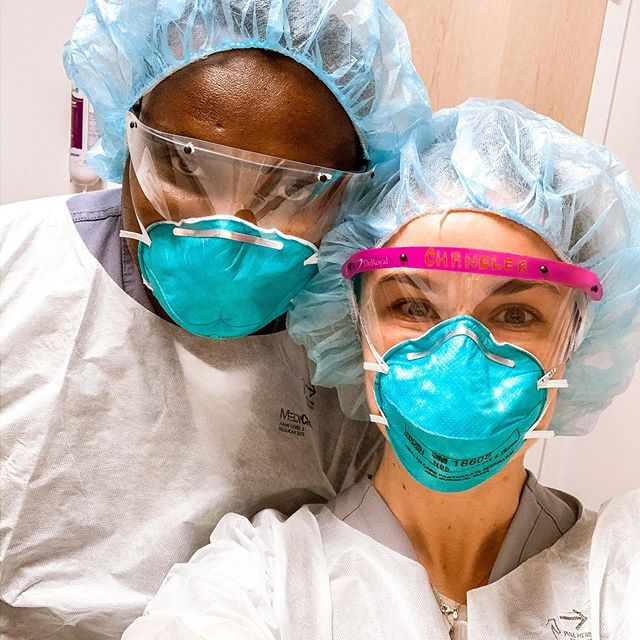n95: (362, 302, 562, 498), (118, 206, 331, 347)
